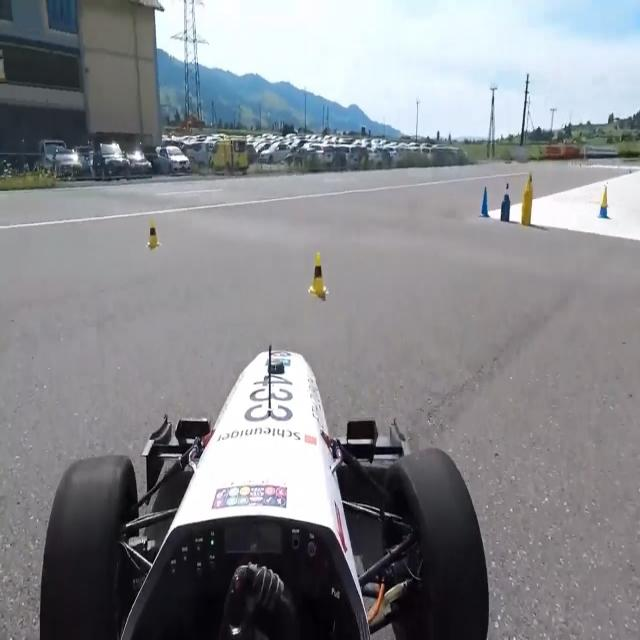blue_cone: (474, 175, 492, 215)
yellow_cone: (307, 250, 331, 307), (145, 210, 164, 248)
